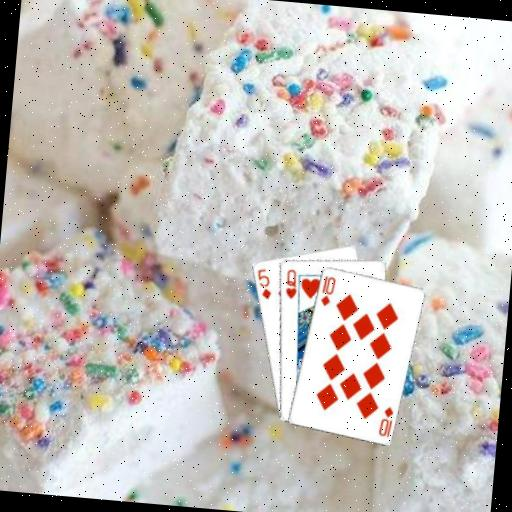10D: (375, 403, 395, 440), (318, 273, 338, 308)
5D: (251, 265, 274, 301)
QH: (282, 266, 300, 301)
